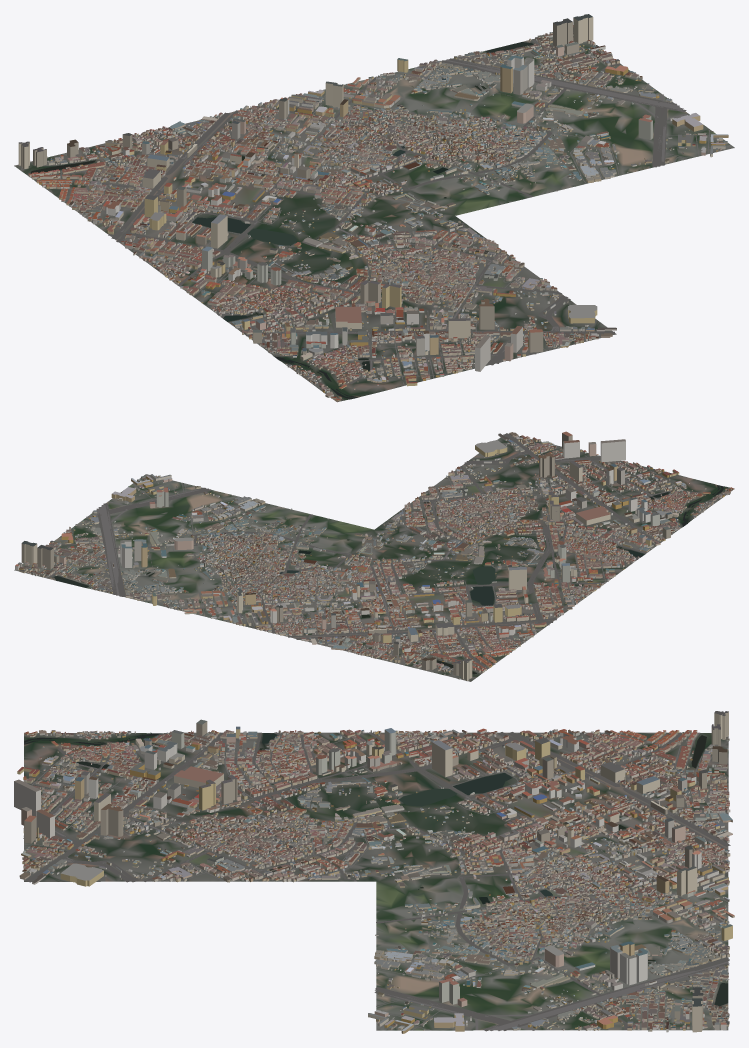
3 views of the same model, one above another, from view 1: azimuth 30°, elevation 25°; view 2: azimuth 150°, elevation 25°; view 3: azimuth 270°, elevation 25° (orthographic). The views are drawn at different scales.
Parts seen in each view (by area): view 1: buildings, ground, roads, water; view 2: buildings, ground, roads, water; view 3: buildings, ground, roads, water.
Part boxes in pixels (left/top/right/bottom): buildings: left=18, top=14, right=728, bottom=401; ground: left=14, top=32, right=734, bottom=402; roads: left=27, top=39, right=734, bottom=385; water: left=30, top=42, right=533, bottom=398; buildings: left=15, top=431, right=733, bottom=680; ground: left=14, top=433, right=734, bottom=681; roads: left=46, top=433, right=698, bottom=673; water: left=54, top=485, right=723, bottom=674; buildings: left=14, top=711, right=734, bottom=1033; ground: left=24, top=732, right=728, bottom=1030; roads: left=23, top=732, right=730, bottom=1031; water: left=24, top=732, right=728, bottom=1006.
Bounding box in the file's own units: 2848 × 124 × 2869.
